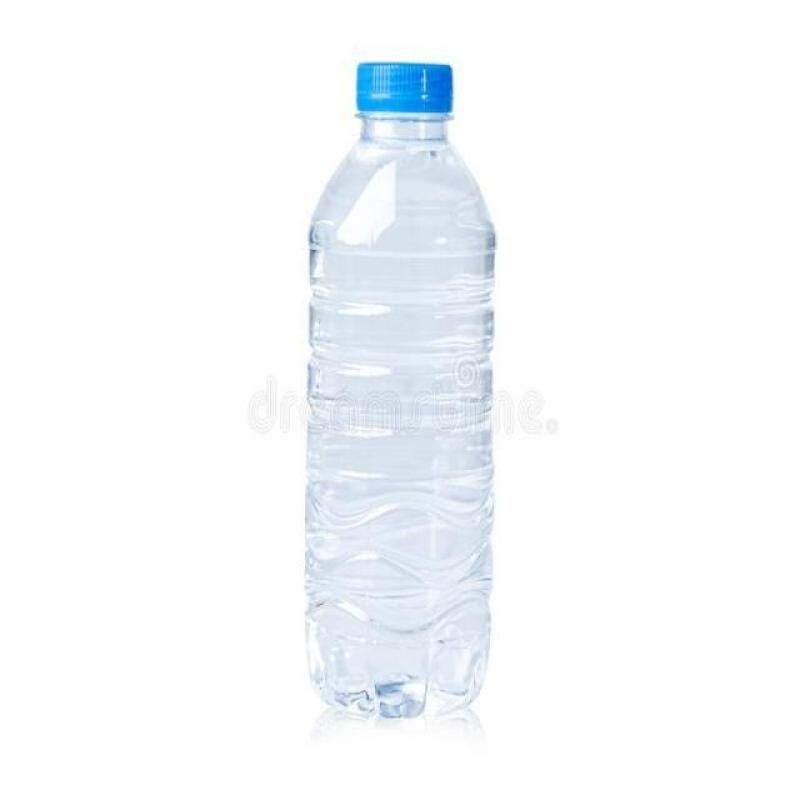botella: (302, 61, 500, 719)
